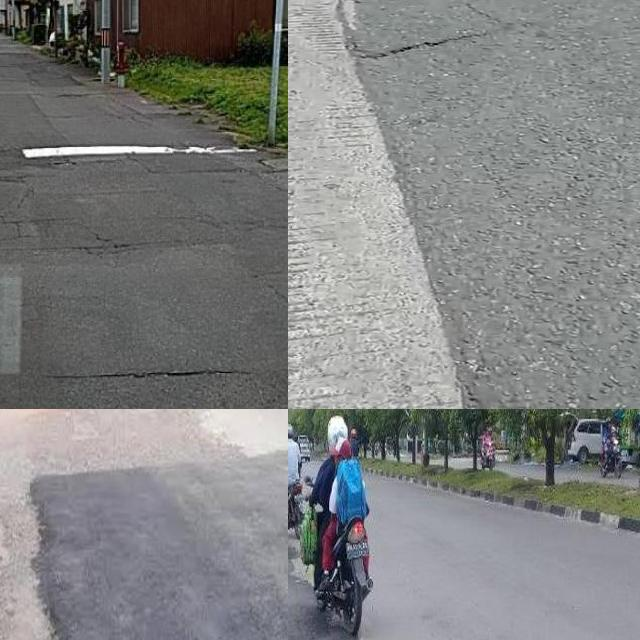Sambungan: (288, 0, 476, 409), (31, 459, 288, 640)
